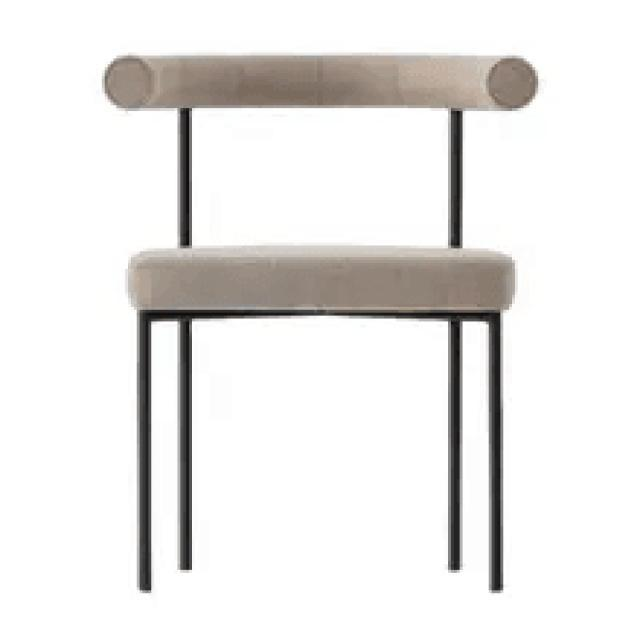chair: (100, 48, 540, 592), (104, 55, 536, 312)
